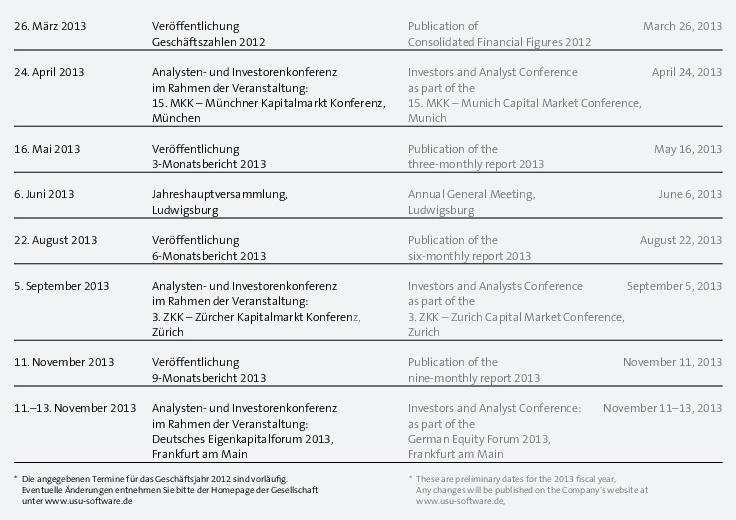table: (0, 0, 736, 520)
